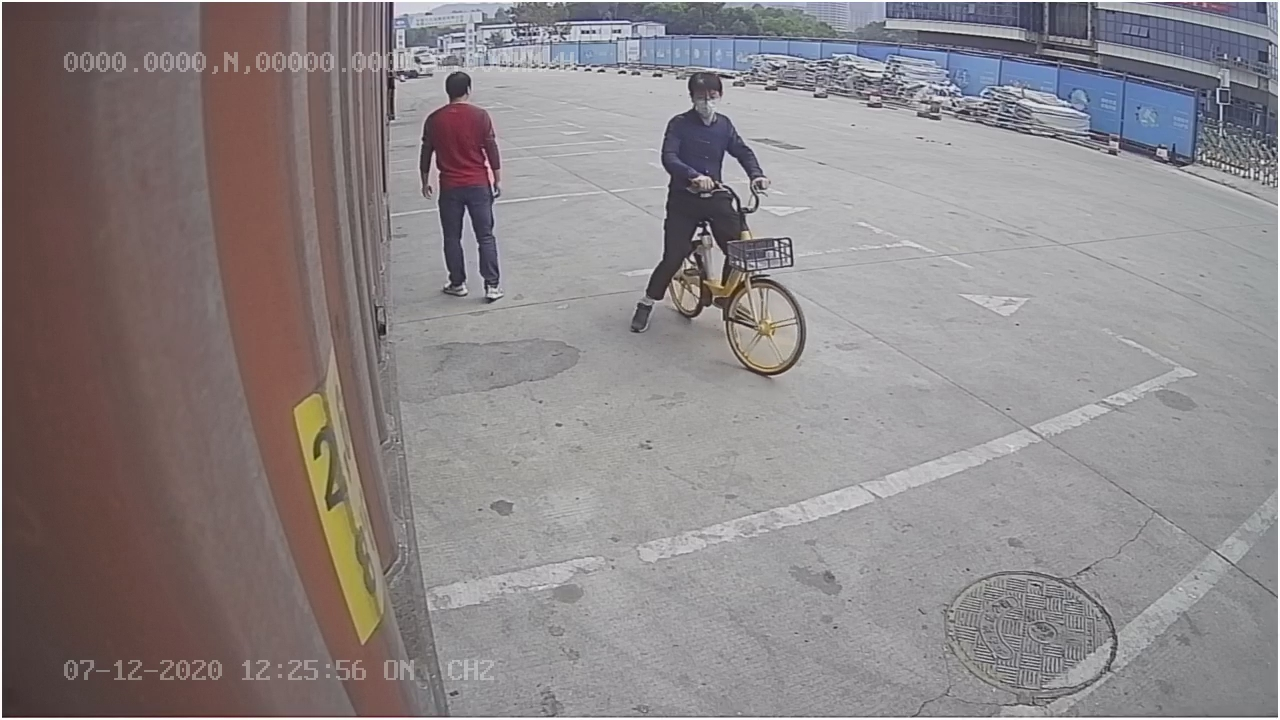person: (416, 69, 514, 306)
